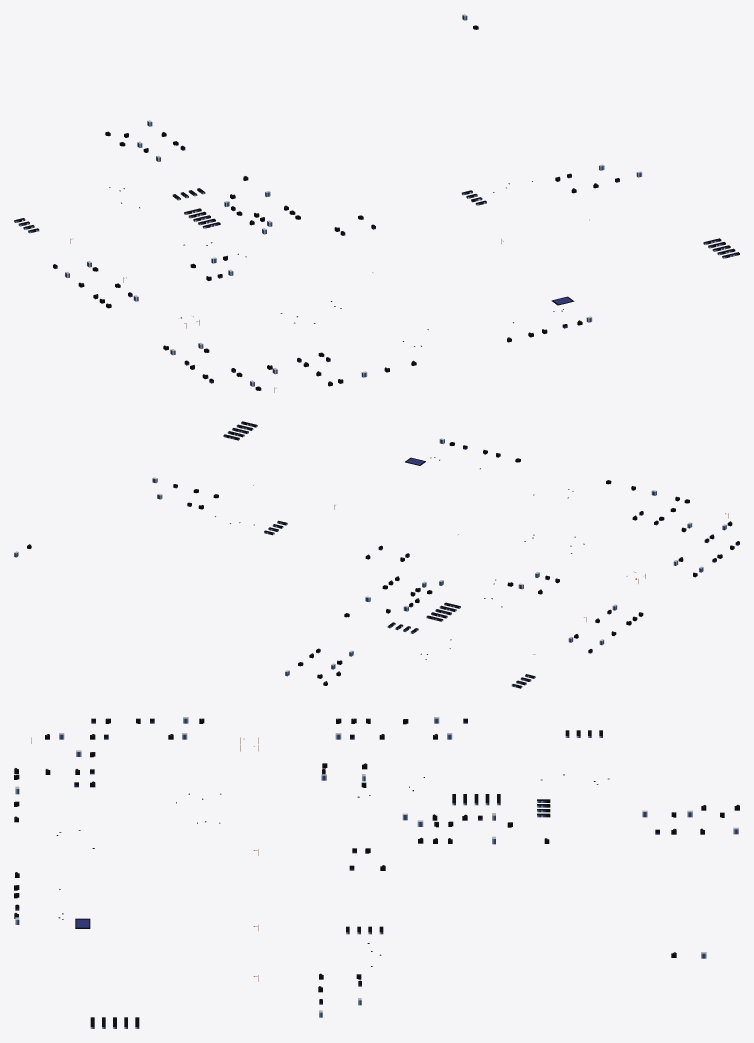
3 renders of one model, top to bottom at view 1: azimuth 30°, elevation 25°; view 2: azimuth 150°, elevation 25°; view 3: azimuth 270°, elevation 25°, orthographic. The views are drawn at different scales.
Visible parts, largest first — view 1: Joint_0_Object_1; view 2: Joint_0_Object_1; view 3: Joint_0_Object_1.
Boxes of the visible parts, bbox=[...] form: Joint_0_Object_1: bbox=[14, 14, 739, 390]; Joint_0_Object_1: bbox=[14, 421, 739, 688]; Joint_0_Object_1: bbox=[14, 717, 739, 1028].
Size of the model in its own units: 9750 by 975 by 9740.
